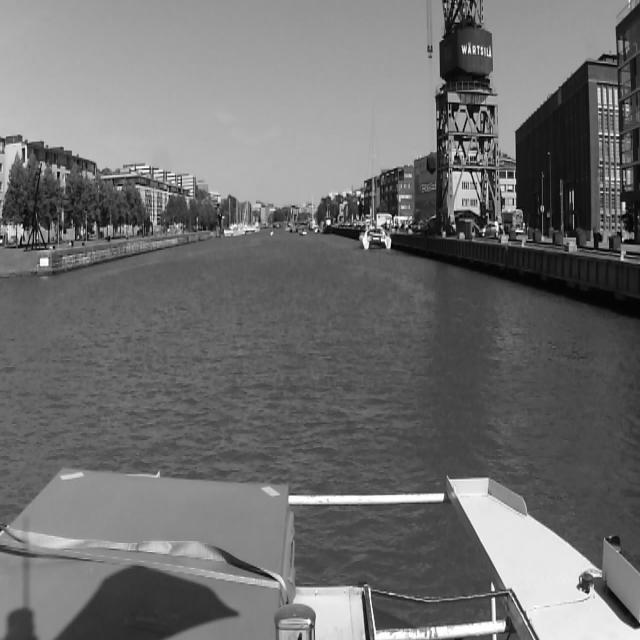ship: (358, 118, 392, 251), (223, 198, 233, 238), (323, 212, 332, 234), (300, 228, 307, 236), (270, 230, 273, 237)
